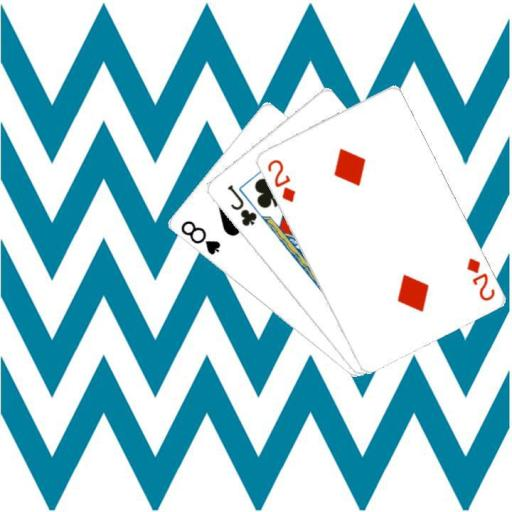2D: (263, 156, 297, 204), (463, 255, 496, 302)
8S: (177, 217, 222, 257)
JC: (223, 182, 258, 229)
